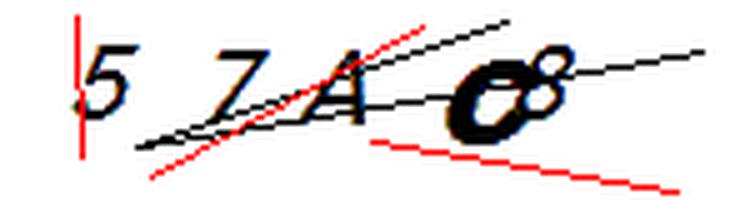5: (63, 37, 150, 127)
7: (190, 41, 277, 129)
8: (512, 38, 584, 133)
A: (294, 44, 385, 134)
C: (441, 52, 537, 156)
